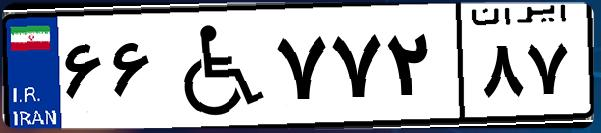2: (385, 28, 445, 110)
6: (57, 26, 110, 100), (110, 28, 158, 98)
7: (270, 28, 330, 110), (330, 28, 385, 110), (525, 38, 570, 115)
8: (475, 38, 525, 113)
ژ (معلولین و جانبازان): (158, 12, 270, 120)
